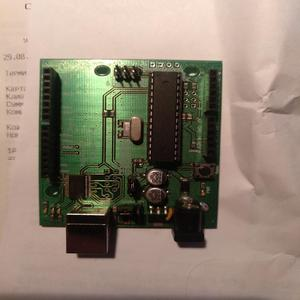duino: (34, 41, 229, 252)
